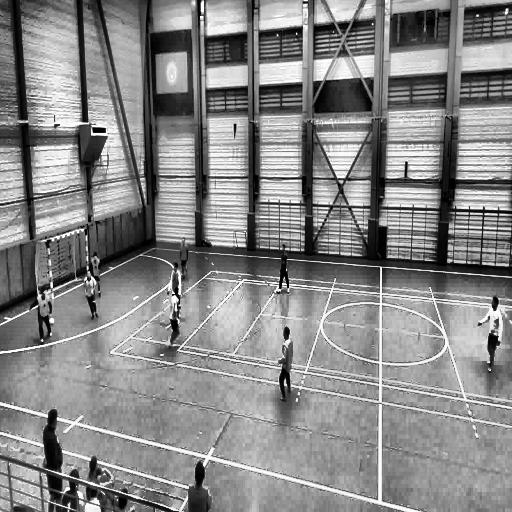ball: (47, 312, 56, 330)
player: (42, 410, 63, 512), (477, 294, 502, 374), (276, 325, 294, 402), (32, 287, 54, 343), (168, 285, 183, 354), (168, 261, 181, 328), (83, 267, 99, 321), (88, 250, 103, 302), (278, 245, 290, 291), (178, 238, 188, 282)
